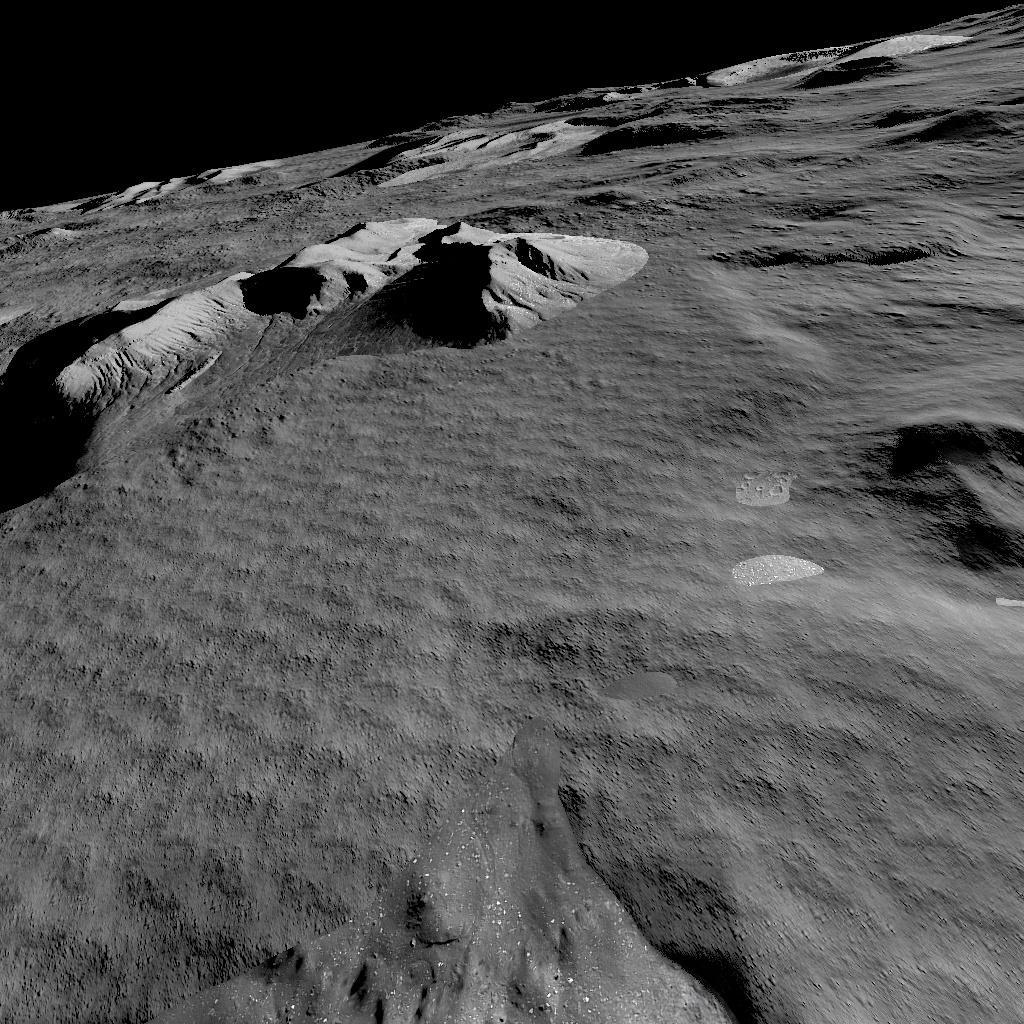Boulders: (0, 218, 650, 518), (338, 0, 1024, 188), (60, 152, 286, 202)
Crater: (0, 878, 1024, 1024), (873, 418, 1024, 598), (704, 242, 942, 278)
Plan surface: (0, 530, 860, 865)
